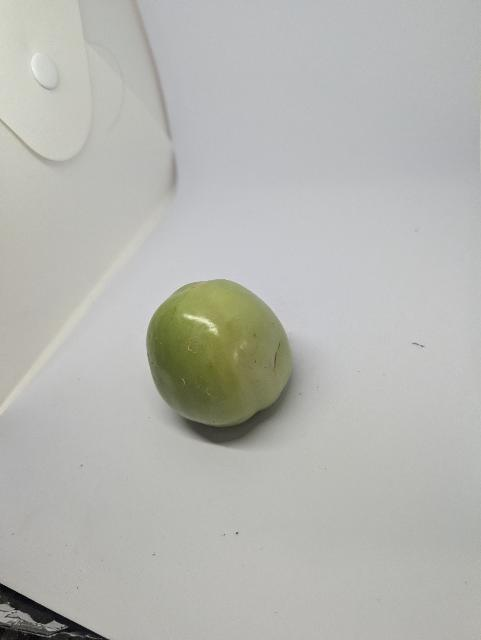green: (135, 271, 310, 433)
